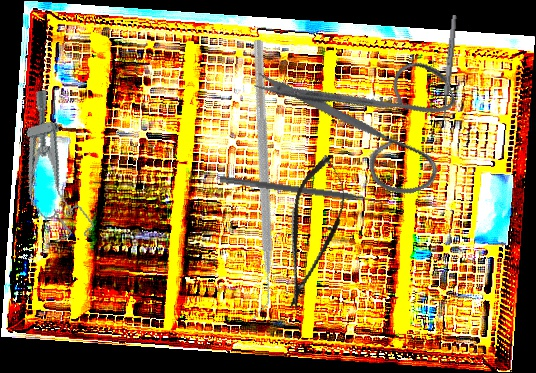Chopper: (121, 37, 390, 322)
Iris Scissors: (250, 10, 481, 233)
Micro Scissor: (268, 150, 357, 315)
Spatula Surgical: (218, 175, 388, 211)
Speculum: (3, 86, 97, 248)
Surgical Spoon: (439, 14, 458, 129)
